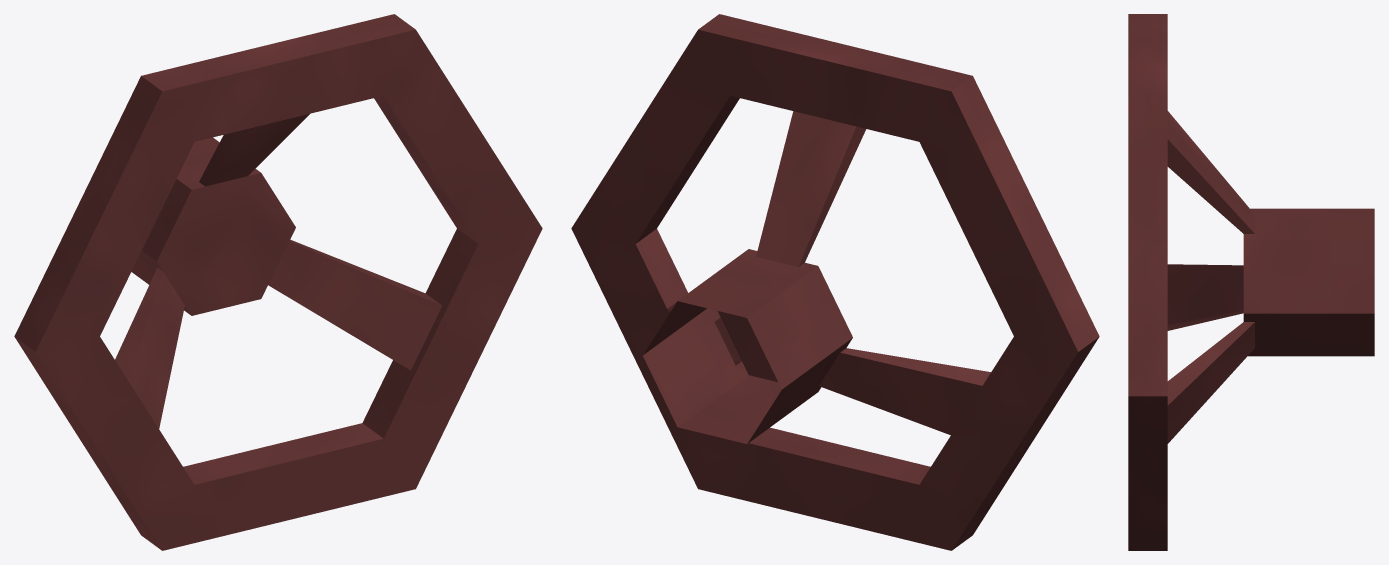
Rendered from handwheel.fbx.
3 renders of one model, left to right at view 1: azimuth 30°, elevation 25°; view 2: azimuth 150°, elevation 25°; view 3: azimuth 270°, elevation 25°, orthographic. The views are drawn at different scales.
Parts seen in each view (by area): view 1: locking_wheel.001; view 2: locking_wheel.001; view 3: locking_wheel.001.
Boxes of the visible parts, x1,y1,x2,y2 form: locking_wheel.001: (14,14,542,550); locking_wheel.001: (571,14,1099,550); locking_wheel.001: (1128,14,1374,550).
Bounding box in the file's own units: 0.4938 × 0.4276 × 0.2258.
